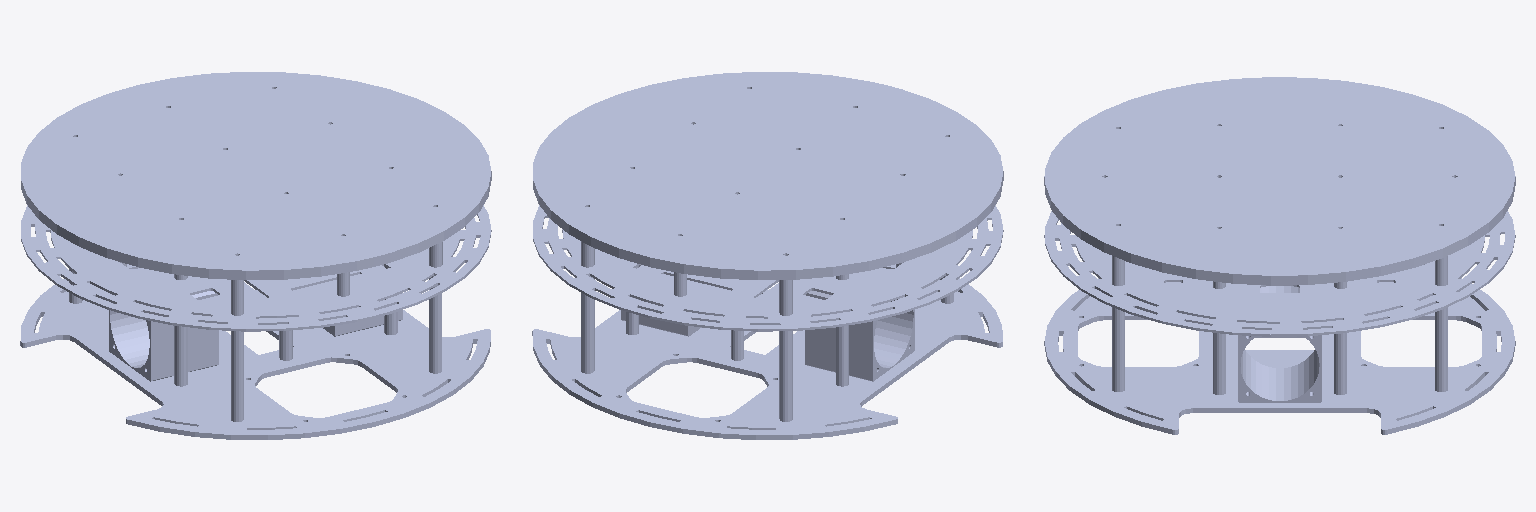
URDF robot description (rabbit):
<robot
  name="rabbit">
  <link
    name="base_link">
    <inertial>
      <origin
        xyz="0.151891275834869 -0.275187939951364 0.211836980117961"
        rpy="0 0 0" />
      <mass
        value="4.7488720395053" />
      <inertia
        ixx="0.0485071262560934"
        ixy="-1.38803666938514E-06"
        ixz="5.81518221606172E-18"
        iyy="0.0466491884989033"
        iyz="-2.13050640094385E-06"
        izz="0.067964552349255" />
    </inertial>
    <visual>
      <origin
        xyz="0 0 0"
        rpy="0 0 0" />
      <geometry>
        <mesh
          filename="package://rabbit/meshes/base_link.STL" />
      </geometry>
      <material
        name="">
        <color
          rgba="0.792156862745098 0.819607843137255 0.933333333333333 1" />
      </material>
    </visual>
    <collision>
      <origin
        xyz="0 0 0"
        rpy="0 0 0" />
      <geometry>
        <mesh
          filename="package://rabbit/meshes/base_link.STL" />
      </geometry>
    </collision>
  </link>
  <link
    name="Left_Motor">
    <inertial>
      <origin
        xyz="0 6.38378239159465E-16 0.0127084120721804"
        rpy="0 0 0" />
      <mass
        value="0.0403856509973404" />
      <inertia
        ixx="3.05766741659314E-05"
        ixy="3.30702608372165E-20"
        ixz="8.51743274833495E-21"
        iyy="3.05766741659314E-05"
        iyz="-1.03803200334245E-20"
        izz="5.96938637404995E-05" />
    </inertial>
    <visual>
      <origin
        xyz="0 0 0"
        rpy="0 0 0" />
      <geometry>
        <mesh
          filename="package://rabbit/meshes/Left_Motor.STL" />
      </geometry>
      <material
        name="">
        <color
          rgba="0.792156862745098 0.819607843137255 0.933333333333333 1" />
      </material>
    </visual>
    <collision>
      <origin
        xyz="0 0 0"
        rpy="0 0 0" />
      <geometry>
        <mesh
          filename="package://rabbit/meshes/Left_Motor.STL" />
      </geometry>
    </collision>
  </link>
  <joint
    name="Left_Wheel"
    type="continuous">
    <origin
      xyz="0.28089 -0.27519 0.18903"
      rpy="1.5708 6.123E-17 1.5708" />
    <parent
      link="base_link" />
    <child
      link="Left_Motor" />
    <axis
      xyz="0 0 1" />
    <limit
      effort="0"
      velocity="20" />
  </joint>
  <link
    name="Right_Motor">
    <inertial>
      <origin
        xyz="-5.55111512312578E-17 7.21644966006352E-16 -0.0092915879278196"
        rpy="0 0 0" />
      <mass
        value="0.0403856509973403" />
      <inertia
        ixx="3.05766741659313E-05"
        ixy="6.69156028330897E-20"
        ixz="-2.79858265527976E-21"
        iyy="3.05766741659313E-05"
        iyz="-1.31400559988965E-20"
        izz="5.96938637404994E-05" />
    </inertial>
    <visual>
      <origin
        xyz="0 0 0"
        rpy="0 0 0" />
      <geometry>
        <mesh
          filename="package://rabbit/meshes/Right_Motor.STL" />
      </geometry>
      <material
        name="">
        <color
          rgba="0.792156862745098 0.819607843137255 0.933333333333333 1" />
      </material>
    </visual>
    <collision>
      <origin
        xyz="0 0 0"
        rpy="0 0 0" />
      <geometry>
        <mesh
          filename="package://rabbit/meshes/Right_Motor.STL" />
      </geometry>
    </collision>
  </link>
  <joint
    name="Right_Wheel"
    type="continuous">
    <origin
      xyz="0.00089128 -0.27519 0.18903"
      rpy="1.5708 -1.1583 -1.5708" />
    <parent
      link="base_link" />
    <child
      link="Right_Motor" />
    <axis
      xyz="0 0 -1" />
    <limit
      effort="0"
      velocity="20" />
  </joint>
</robot>

--- Facts derived from the render (not from the file) ---
3 views of the same robot in one strip: view 1: azimuth 30°, elevation 25°; view 2: azimuth 150°, elevation 25°; view 3: azimuth 270°, elevation 25° (orthographic).
Robot: rabbit — 3 links, 2 joints (2 continuous); root link base_link; default pose: all joints at 0.
Visible links, largest first — view 1: base_link; view 2: base_link; view 3: base_link.
Link boxes in pixels (x1,y1,x2,y2): base_link: (20, 72, 491, 439); base_link: (532, 72, 1003, 439); base_link: (1044, 77, 1515, 434).
Bounding box of the posed robot: 0.3497 × 0.35 × 0.139 m (x, y, z).
1 mesh visuals loaded from 3 distinct referenced files (1 binary STL); not drawn: 2 (reference not matched to a file when rendering).